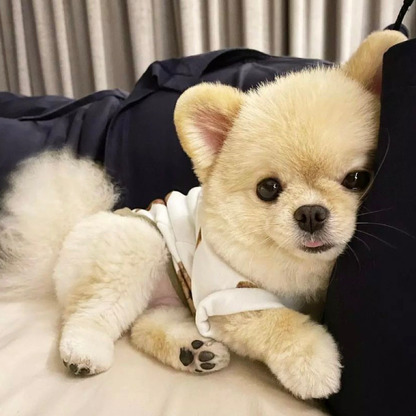Pomeranian: (24, 53, 398, 389)
